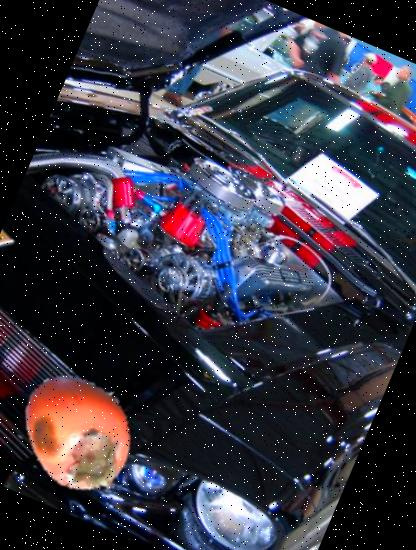Kaki: (0, 350, 162, 517)
